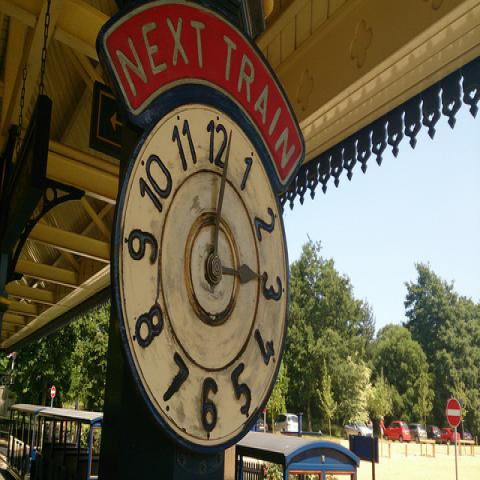car: (266, 412, 299, 436), (382, 420, 410, 444), (343, 420, 373, 440), (408, 424, 426, 443), (441, 428, 461, 444), (427, 425, 442, 444), (258, 419, 264, 432), (464, 432, 473, 440)
